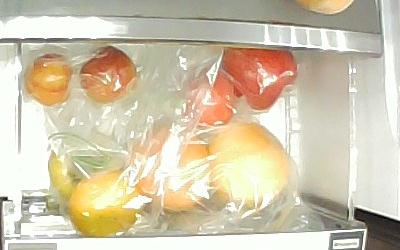apple_vinyl: (219, 50, 298, 111), (182, 68, 235, 127)
grapefruit_vinyl: (126, 125, 212, 211), (207, 122, 288, 211)
persimmon_vinyl: (68, 169, 146, 237), (46, 144, 116, 201)
prune_vinyl: (80, 46, 138, 104), (24, 53, 72, 107)
